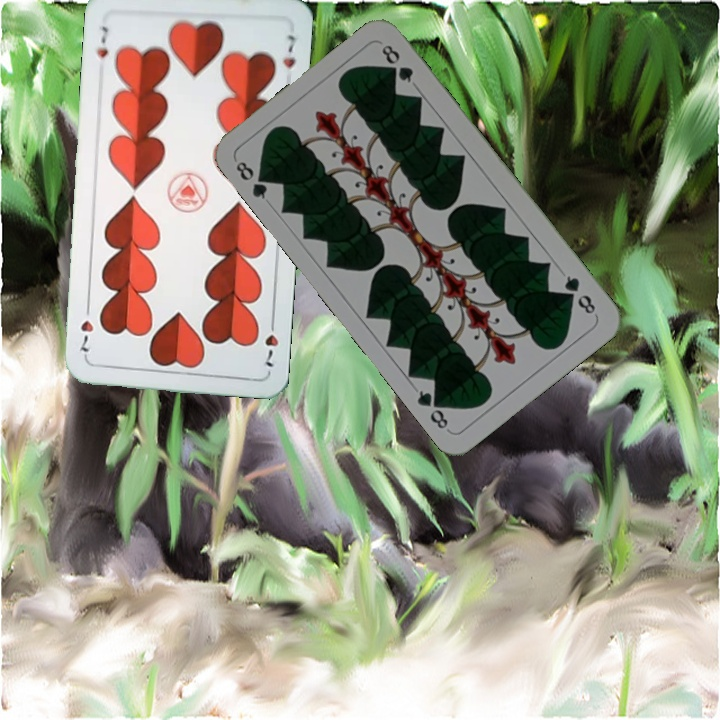G8: (231, 157, 274, 202), (560, 271, 599, 317)
H7: (260, 313, 281, 370), (93, 22, 111, 61)
